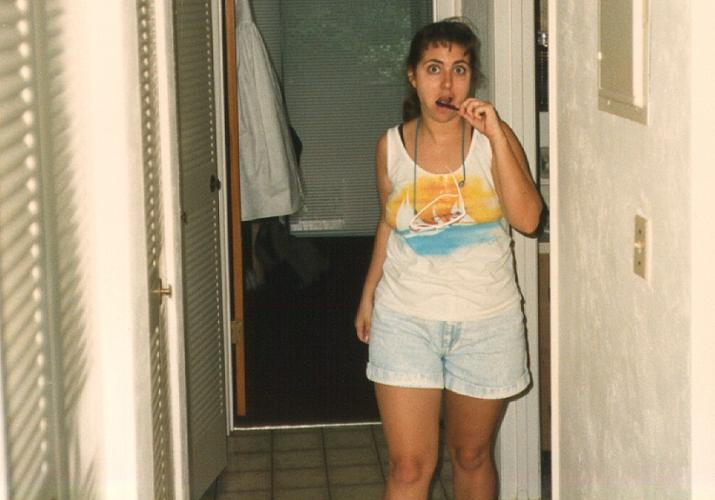person: (351, 22, 548, 495)
